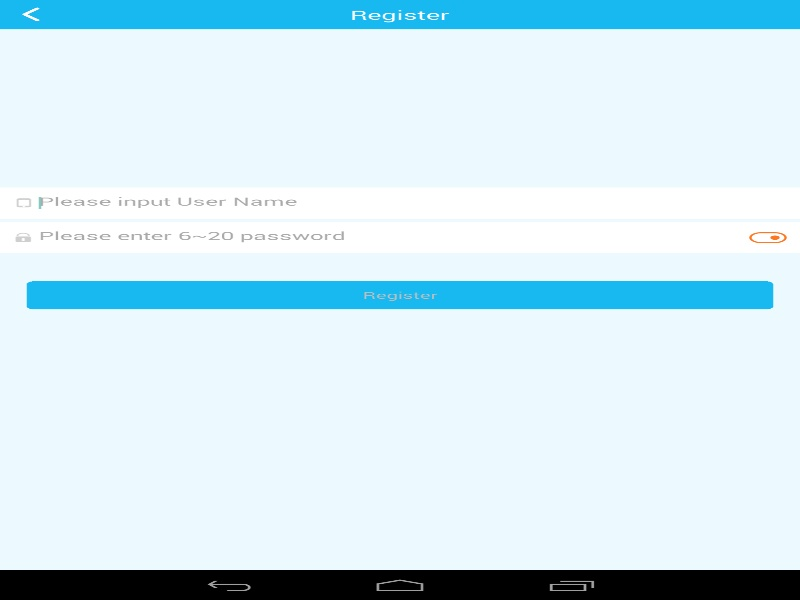Input: (33, 190, 800, 215), (33, 225, 666, 250)
